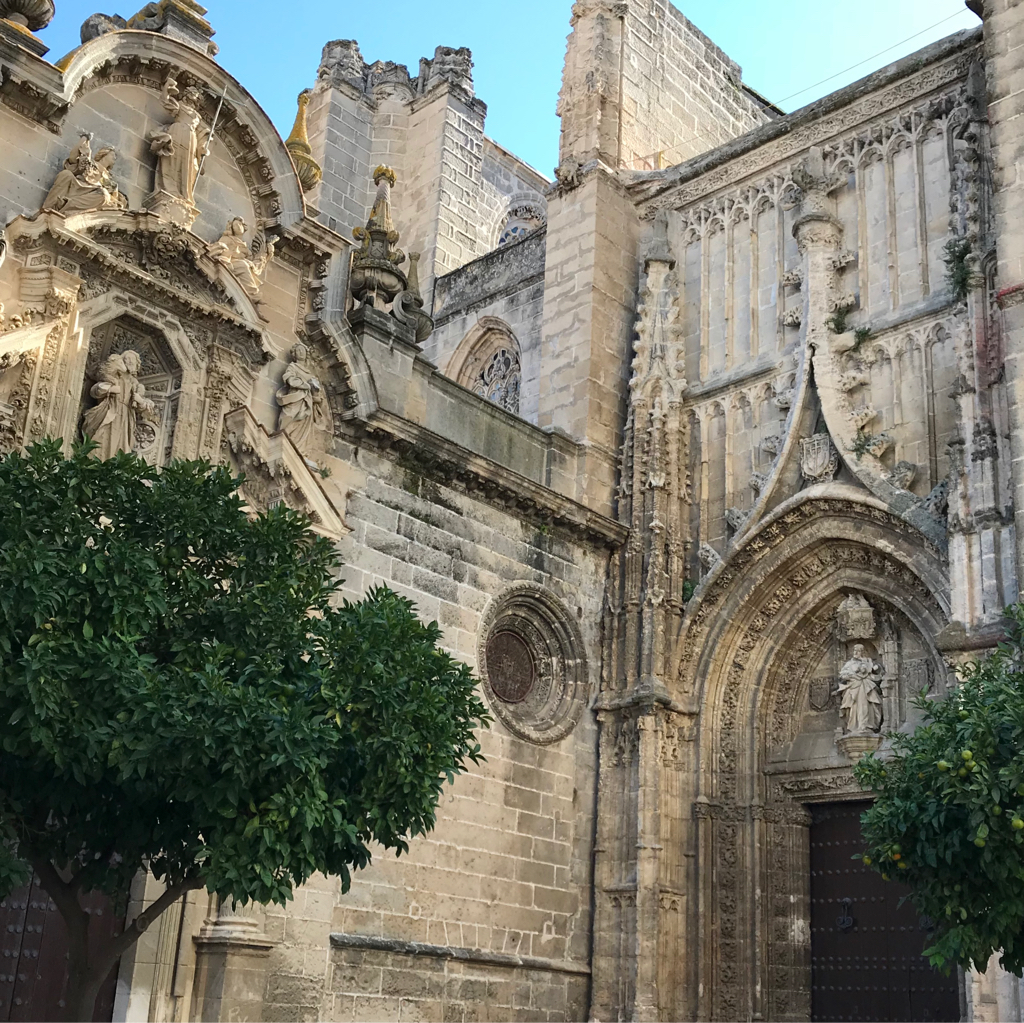arco-apuntado: (709, 498, 953, 728)
arco-conopial: (733, 358, 933, 542)
arco-medio-punto: (61, 28, 298, 247)
fronton-curvo: (60, 200, 260, 332)
ojo-de-buey: (476, 582, 592, 730)
